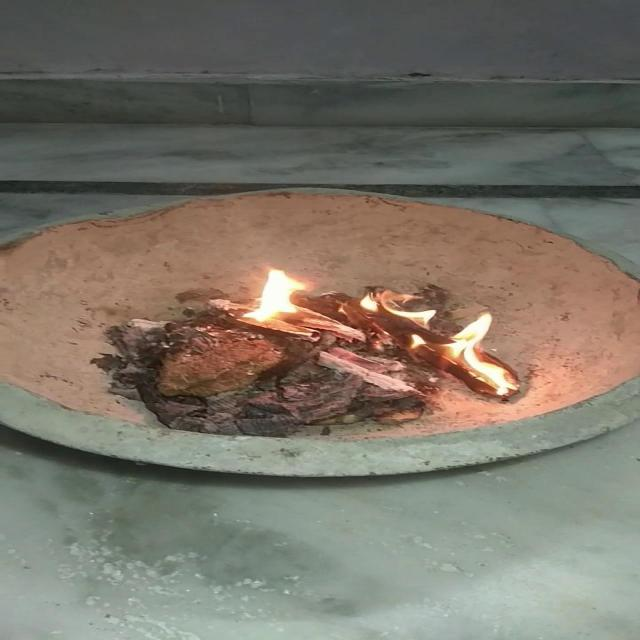fire: (356, 284, 522, 398), (217, 261, 322, 331)
